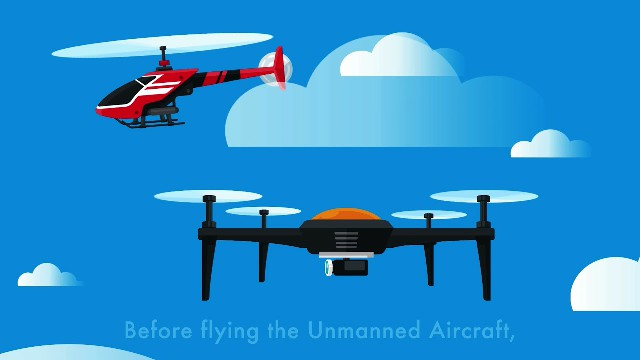maybay_khongnguoilai: (161, 179, 529, 305)
